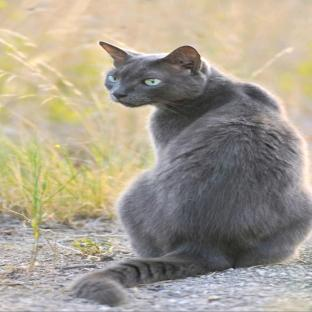Animal: (72, 41, 311, 305)
